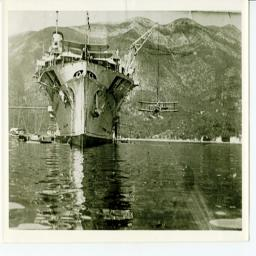Portanaves: (36, 20, 138, 153)
